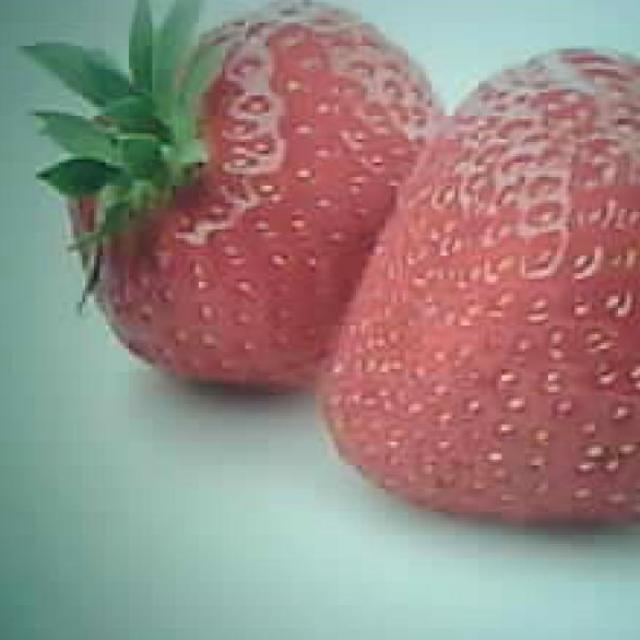Healthy Fruit: (26, 0, 442, 394), (314, 45, 638, 527)
